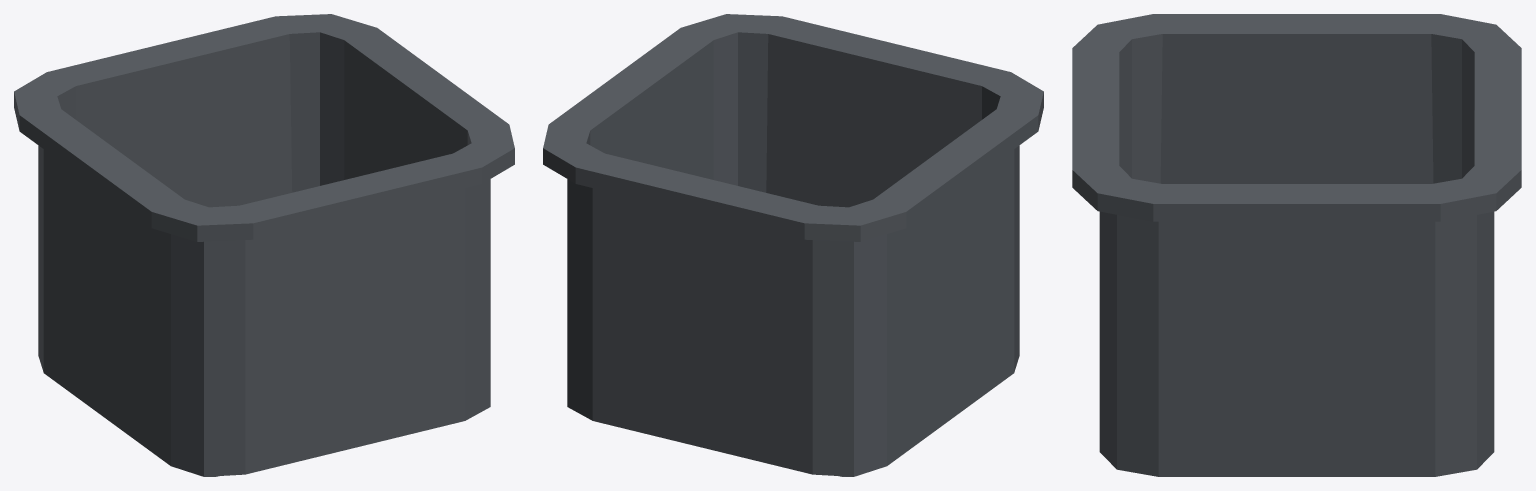
File: SM_Prop_Kitchen_Counter_02_Container_04.obj
3 views of the same model, side by side, from view 1: azimuth 30°, elevation 25°; view 2: azimuth 150°, elevation 25°; view 3: azimuth 270°, elevation 25° (orthographic). The views are drawn at different scales.
Parts seen in each view (by area): view 1: SM_Prop_Kitchen_Counter_02_Container_04_0; view 2: SM_Prop_Kitchen_Counter_02_Container_04_0; view 3: SM_Prop_Kitchen_Counter_02_Container_04_0.
Part boxes in pixels (x1,y1,x2,y2): SM_Prop_Kitchen_Counter_02_Container_04_0: (14, 14, 514, 476); SM_Prop_Kitchen_Counter_02_Container_04_0: (543, 14, 1043, 476); SM_Prop_Kitchen_Counter_02_Container_04_0: (1072, 14, 1521, 476).
Bounding box in the file's own units: 0.3647 × 0.2723 × 0.3647.
Materials: 1 (1 with a texture image).
